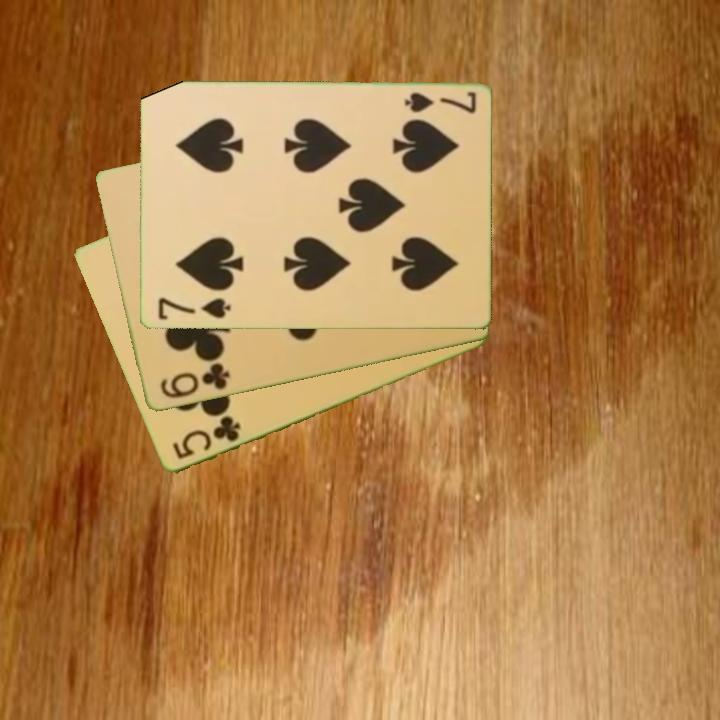5c: (168, 412, 244, 463)
6c: (156, 359, 232, 402)
7s: (400, 88, 479, 117), (154, 295, 233, 323)
